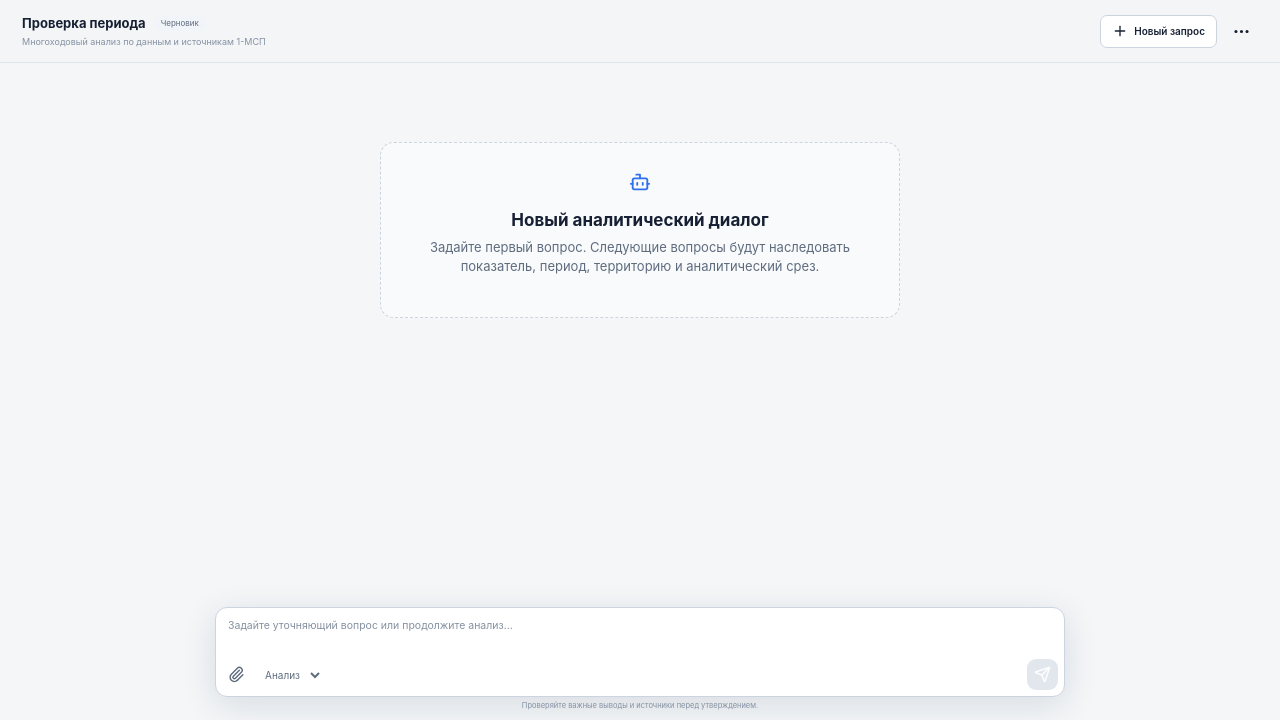
Test: уточнение запроса › submits a typed confirmation to the pending clarification
Step 1. Type "Сравни поступления за 2022 и 2026" into the text box with placeholder "Задайте уточняющий вопрос или продолжите анализ…" → (640, 630), box top-left (216, 608), bottom-right (1064, 652)
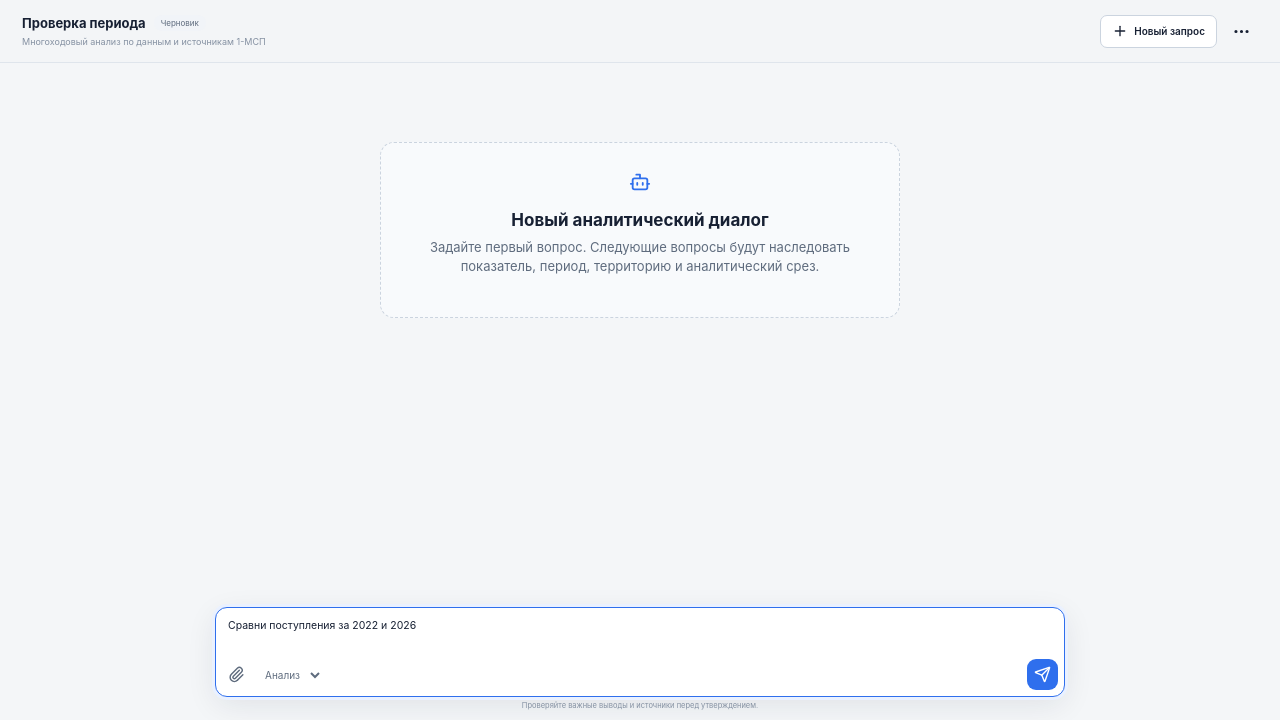
Step 2. Click the button named "Отправить запрос" → (1042, 675), box top-left (1027, 659), bottom-right (1058, 690)
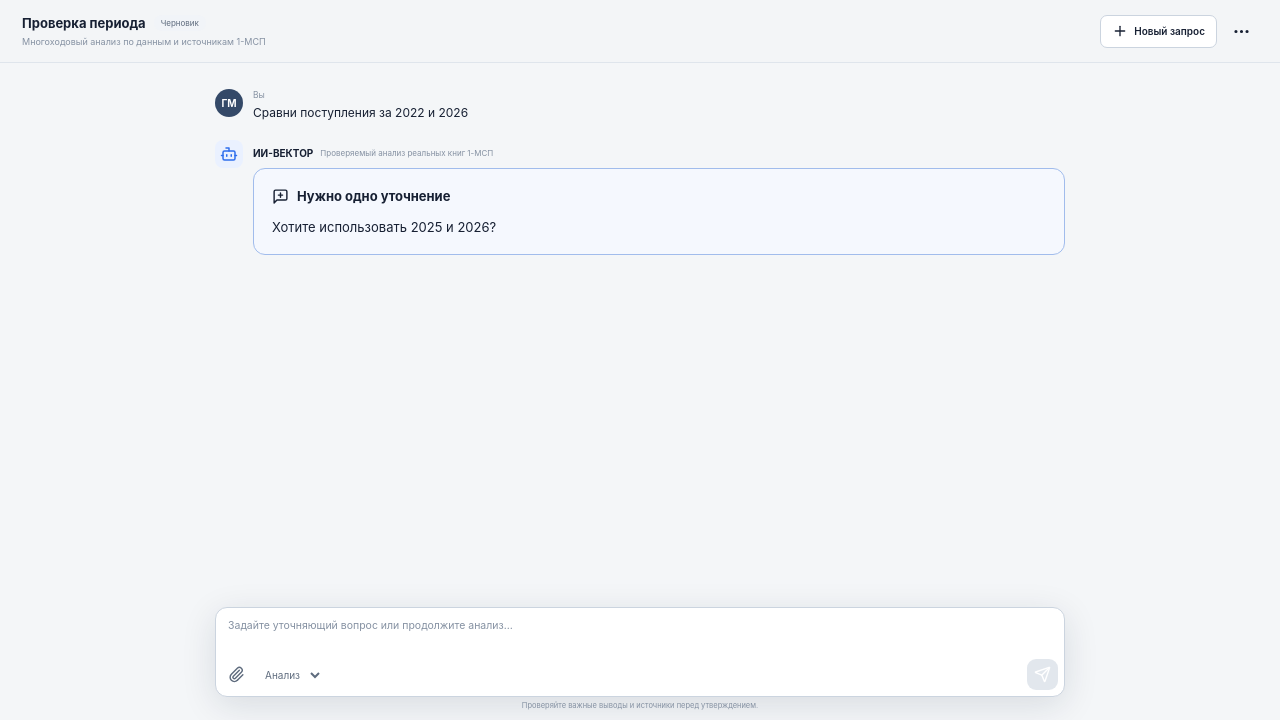
Result: the text "Хотите использовать 2025 и 2026?" is shown at top-left (272, 218), bottom-right (496, 234)
Step 3. Type "да" into the text box with placeholder "Задайте уточняющий вопрос или продолжите анализ…" → (640, 630), box top-left (216, 608), bottom-right (1064, 652)
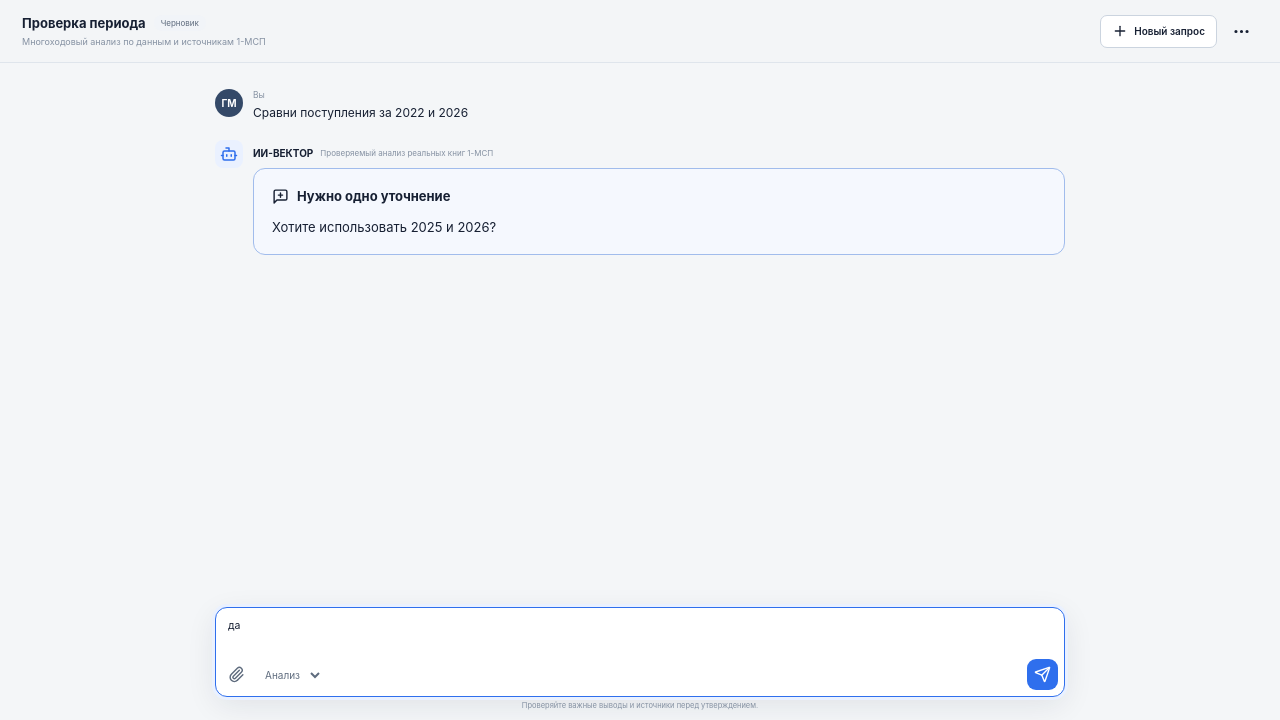
Step 4. Click the button named "Отправить запрос" → (1042, 675), box top-left (1027, 659), bottom-right (1058, 690)
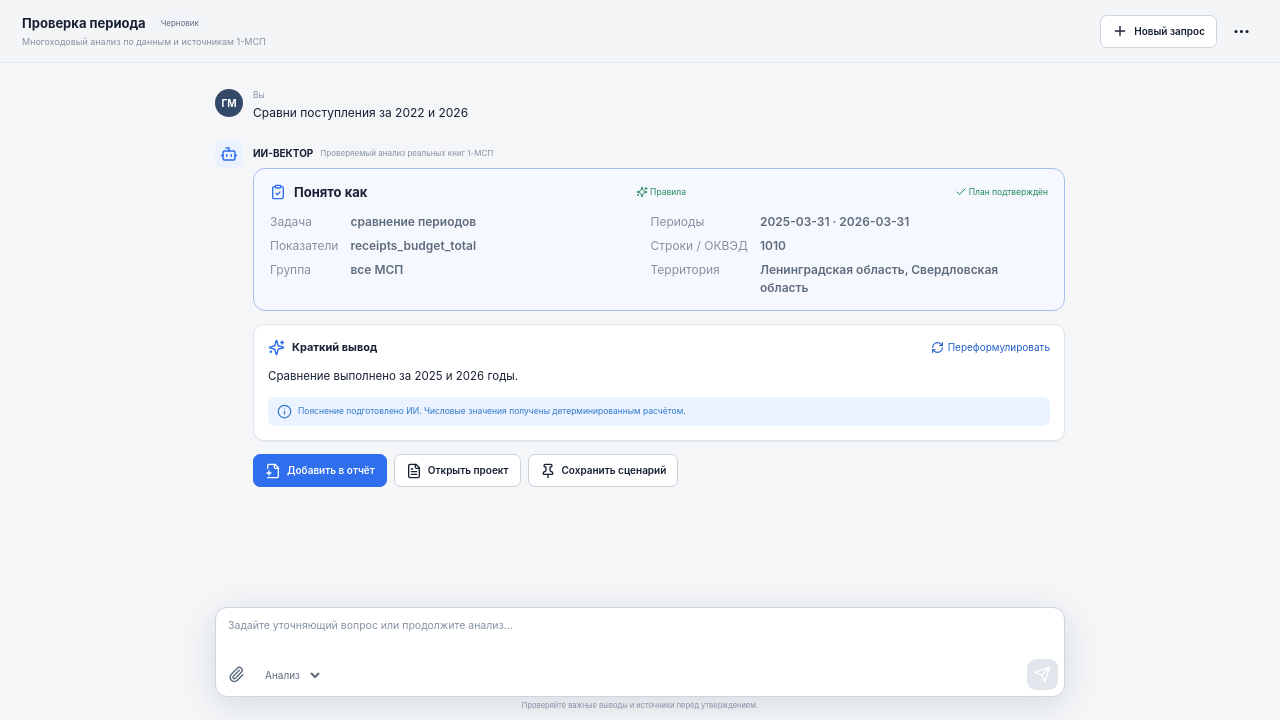
Result: the text "Сравнение выполнено за 2025 и 2026 годы." is shown at top-left (268, 369), bottom-right (518, 383)
